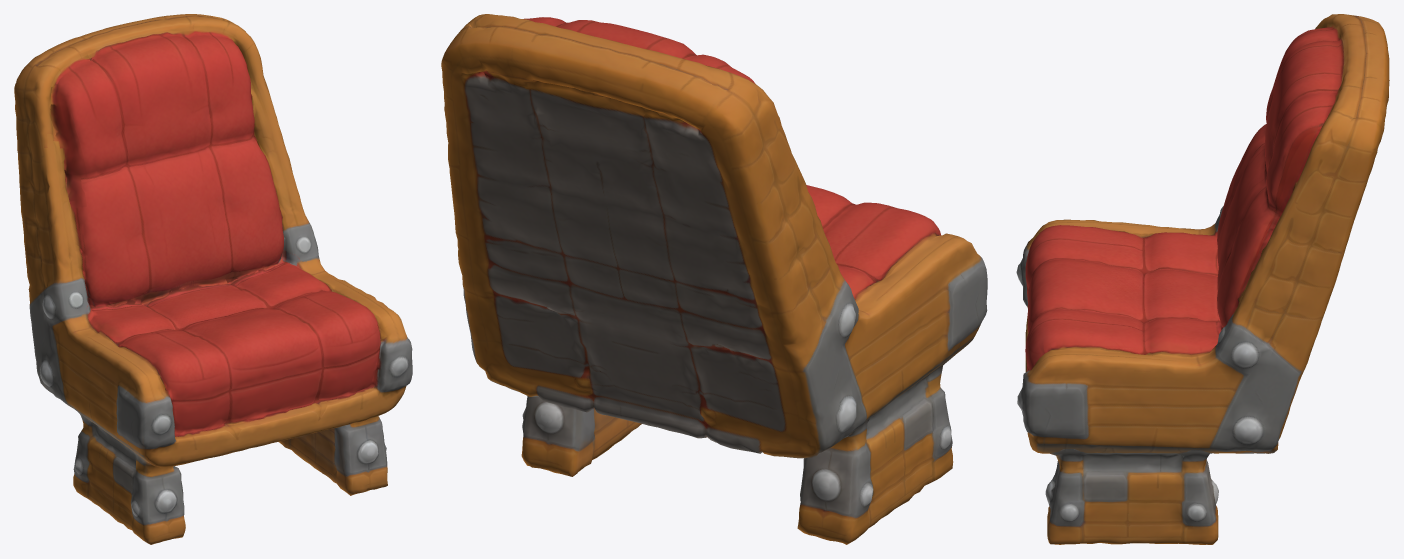
File: FlightRaft_Seat.fbx
3 views of the same model, side by side, from view 1: azimuth 30°, elevation 25°; view 2: azimuth 150°, elevation 25°; view 3: azimuth 270°, elevation 25° (orthographic). The views are drawn at different scales.
Visible parts, largest first — view 1: texture_mapping; view 2: texture_mapping; view 3: texture_mapping.
Part boxes in pixels (x1,y1,x2,y2): texture_mapping: (14, 14, 412, 544); texture_mapping: (441, 14, 987, 544); texture_mapping: (1016, 14, 1389, 544).
Bounding box in the file's own units: 0.7382 × 0.7868 × 0.999.
Materials: 1 (1 with a texture image).
